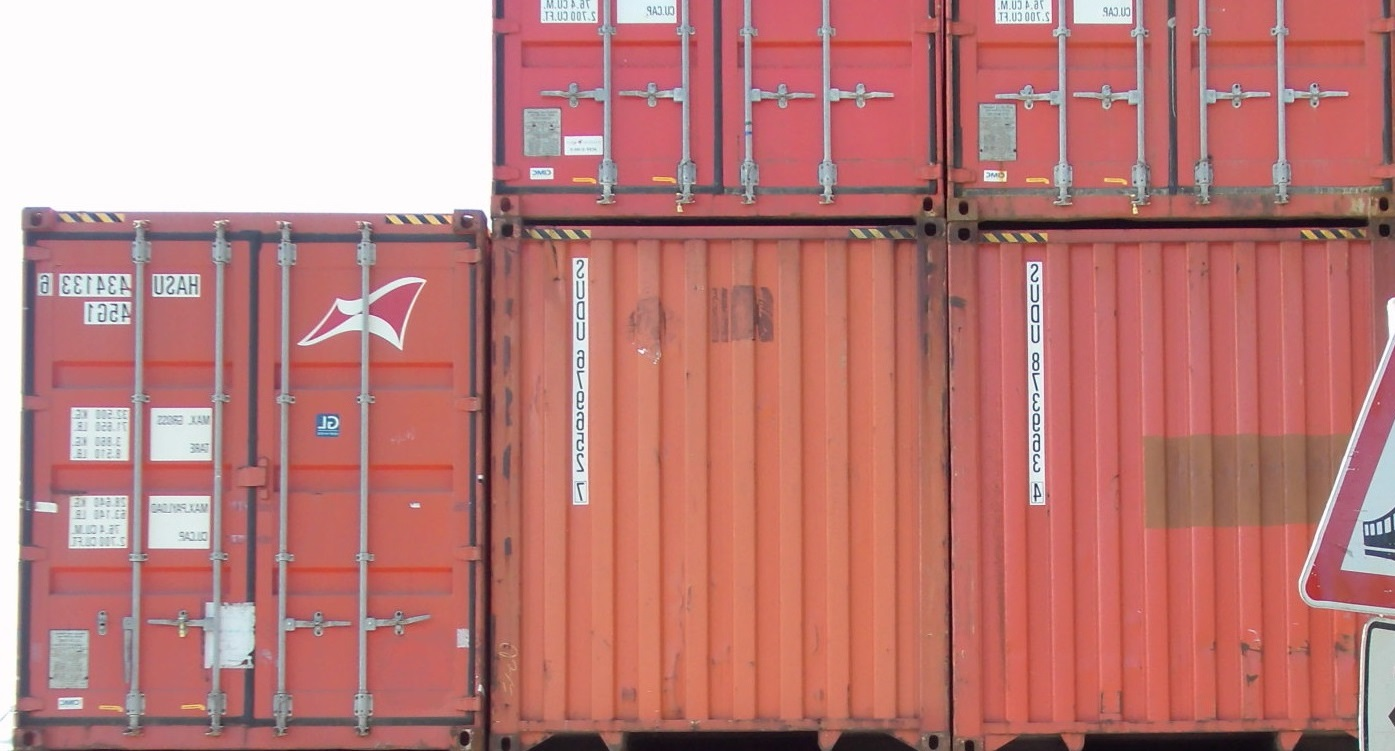container_door: (28, 204, 483, 751), (493, 1, 952, 214), (952, 1, 1394, 214)
container_no_door: (485, 216, 948, 746), (946, 220, 1394, 751)
